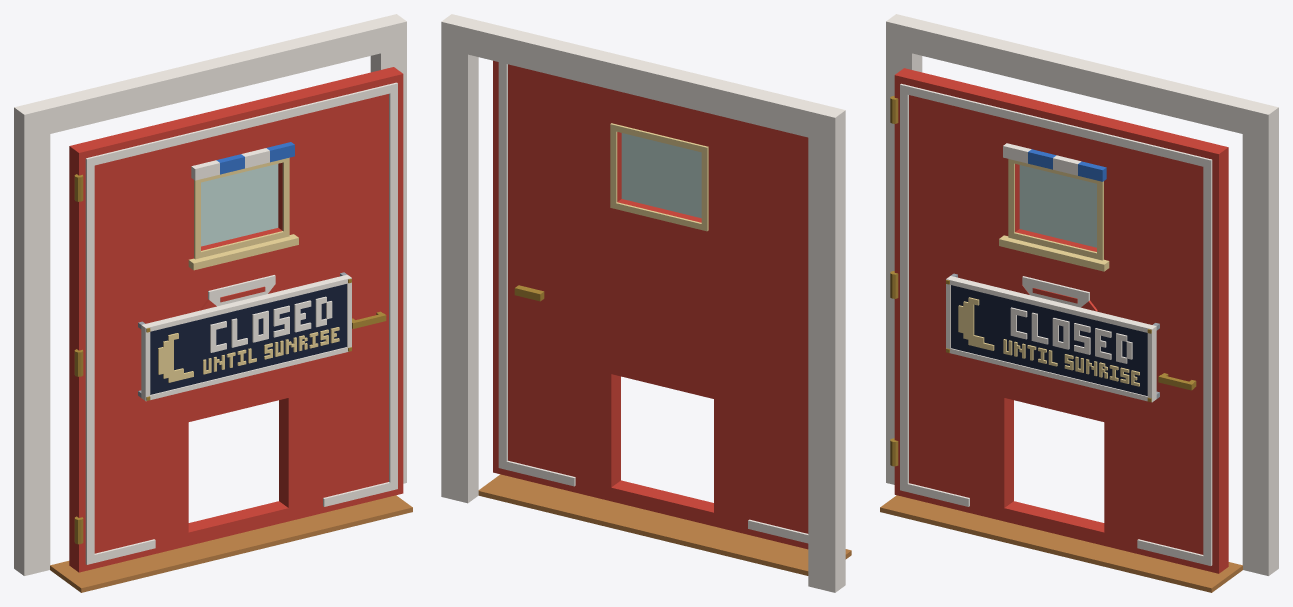
The model's file is CatCafe_Door_TicketGate_Back.glb.
3 views of the same model, side by side, from view 1: azimuth 30°, elevation 25°; view 2: azimuth 150°, elevation 25°; view 3: azimuth 330°, elevation 25° (orthographic). The views are drawn at different scales.
Visible parts, largest first — view 1: CatCafe_Door_TicketGate_Back_Leaf, CatCafe_Door_TicketGate_Back, CatCafe_Door_TicketGate_Back_Sign, CatCafe_Door_TicketGate_Back_Leaf_Glass, CatCafe_Door_TicketGate_Back_Sign_Bulb; view 2: CatCafe_Door_TicketGate_Back_Leaf, CatCafe_Door_TicketGate_Back, CatCafe_Door_TicketGate_Back_Leaf_Glass; view 3: CatCafe_Door_TicketGate_Back_Leaf, CatCafe_Door_TicketGate_Back, CatCafe_Door_TicketGate_Back_Sign, CatCafe_Door_TicketGate_Back_Leaf_Glass, CatCafe_Door_TicketGate_Back_Sign_Bulb.
Boxes of the visible parts, x1=… form: CatCafe_Door_TicketGate_Back_Leaf: x1=69, y1=67, x2=403, y2=572; CatCafe_Door_TicketGate_Back: x1=14, y1=14, x2=412, y2=592; CatCafe_Door_TicketGate_Back_Sign: x1=138, y1=272, x2=351, y2=401; CatCafe_Door_TicketGate_Back_Leaf_Glass: x1=201, y1=164, x2=278, y2=246; CatCafe_Door_TicketGate_Back_Sign_Bulb: x1=158, y1=327, x2=339, y2=382; CatCafe_Door_TicketGate_Back_Leaf: x1=493, y1=60, x2=808, y2=549; CatCafe_Door_TicketGate_Back: x1=441, y1=14, x2=851, y2=592; CatCafe_Door_TicketGate_Back_Leaf_Glass: x1=621, y1=133, x2=701, y2=218; CatCafe_Door_TicketGate_Back_Leaf: x1=890, y1=68, x2=1228, y2=573; CatCafe_Door_TicketGate_Back: x1=880, y1=14, x2=1278, y2=592; CatCafe_Door_TicketGate_Back_Sign: x1=946, y1=273, x2=1159, y2=402; CatCafe_Door_TicketGate_Back_Leaf_Glass: x1=1019, y1=165, x2=1096, y2=247; CatCafe_Door_TicketGate_Back_Sign_Bulb: x1=958, y1=297, x2=1139, y2=386.
Size of the model in its own units: 6.9 by 7.95 by 1.3.
1 material, 1 textured.
